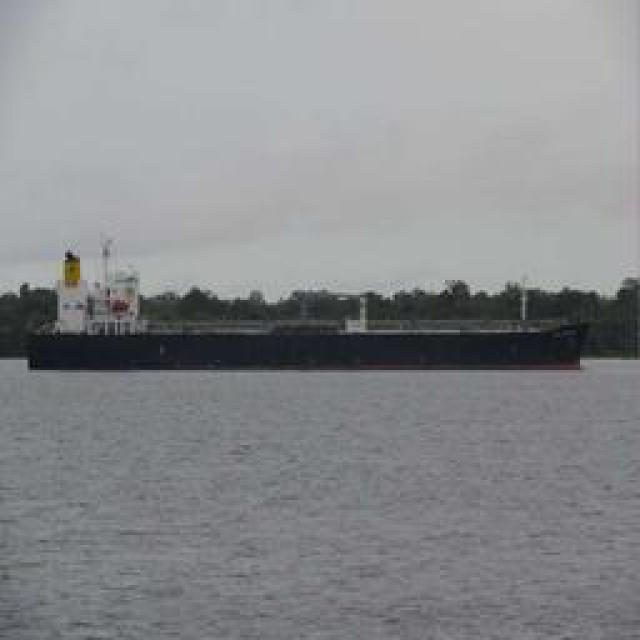Ship: (32, 306, 590, 376)
